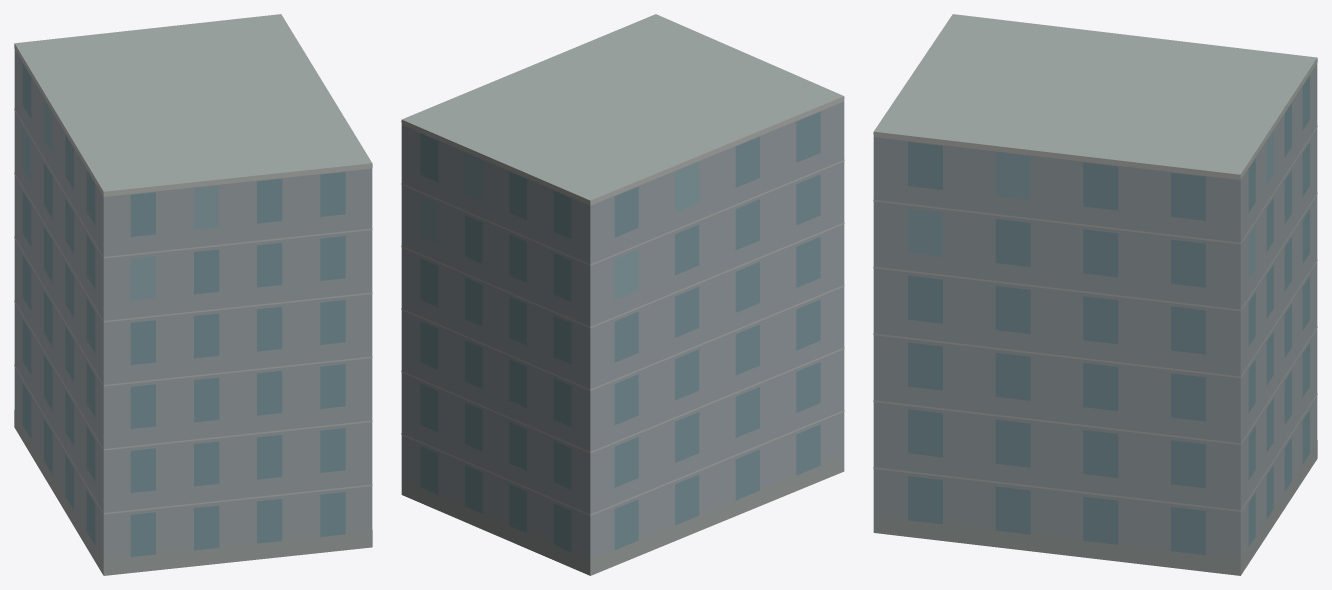
File: survey-upis-32876190.glb
3 renders of one model, left to right at view 1: azimuth 30°, elevation 25°; view 2: azimuth 150°, elevation 25°; view 3: azimuth 270°, elevation 25°, orthographic. The views are drawn at different scales.
Parts seen in each view (by area): view 1: survey-upis-32876190.tmp; view 2: survey-upis-32876190.tmp; view 3: survey-upis-32876190.tmp.
Boxes of the visible parts, x1,y1,x2,y2 form: survey-upis-32876190.tmp: (14, 14, 372, 575); survey-upis-32876190.tmp: (401, 14, 844, 575); survey-upis-32876190.tmp: (873, 14, 1317, 575).
Bounding box in the file's own units: 15.53 × 18.05 × 18.13.
